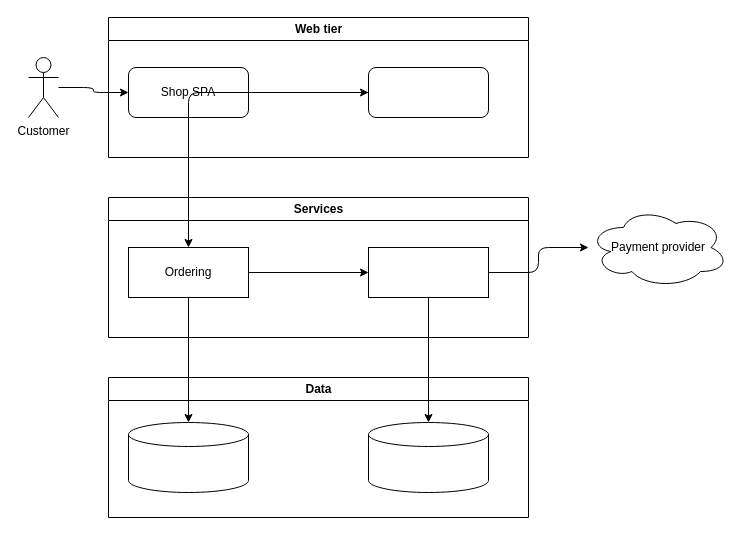
The diagram is 746 pixels wide and 535 high, and some of its shapes have lost their labels. The shapes that lost their labels are listed below. From the top down, each one's centre as x and y in pixels, then its label:
At (x=428, y=92): "BFF API".
At (x=428, y=272): "Billing".
At (x=188, y=457): "Orders DB".
At (x=428, y=457): "Ledger".
